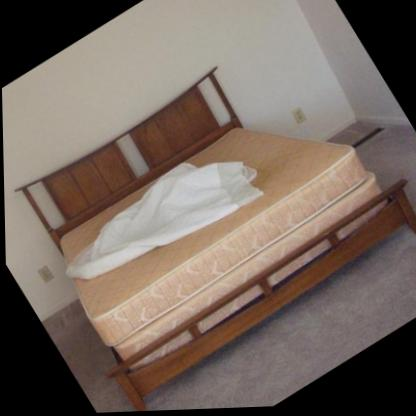Bed: (22, 72, 416, 412)
